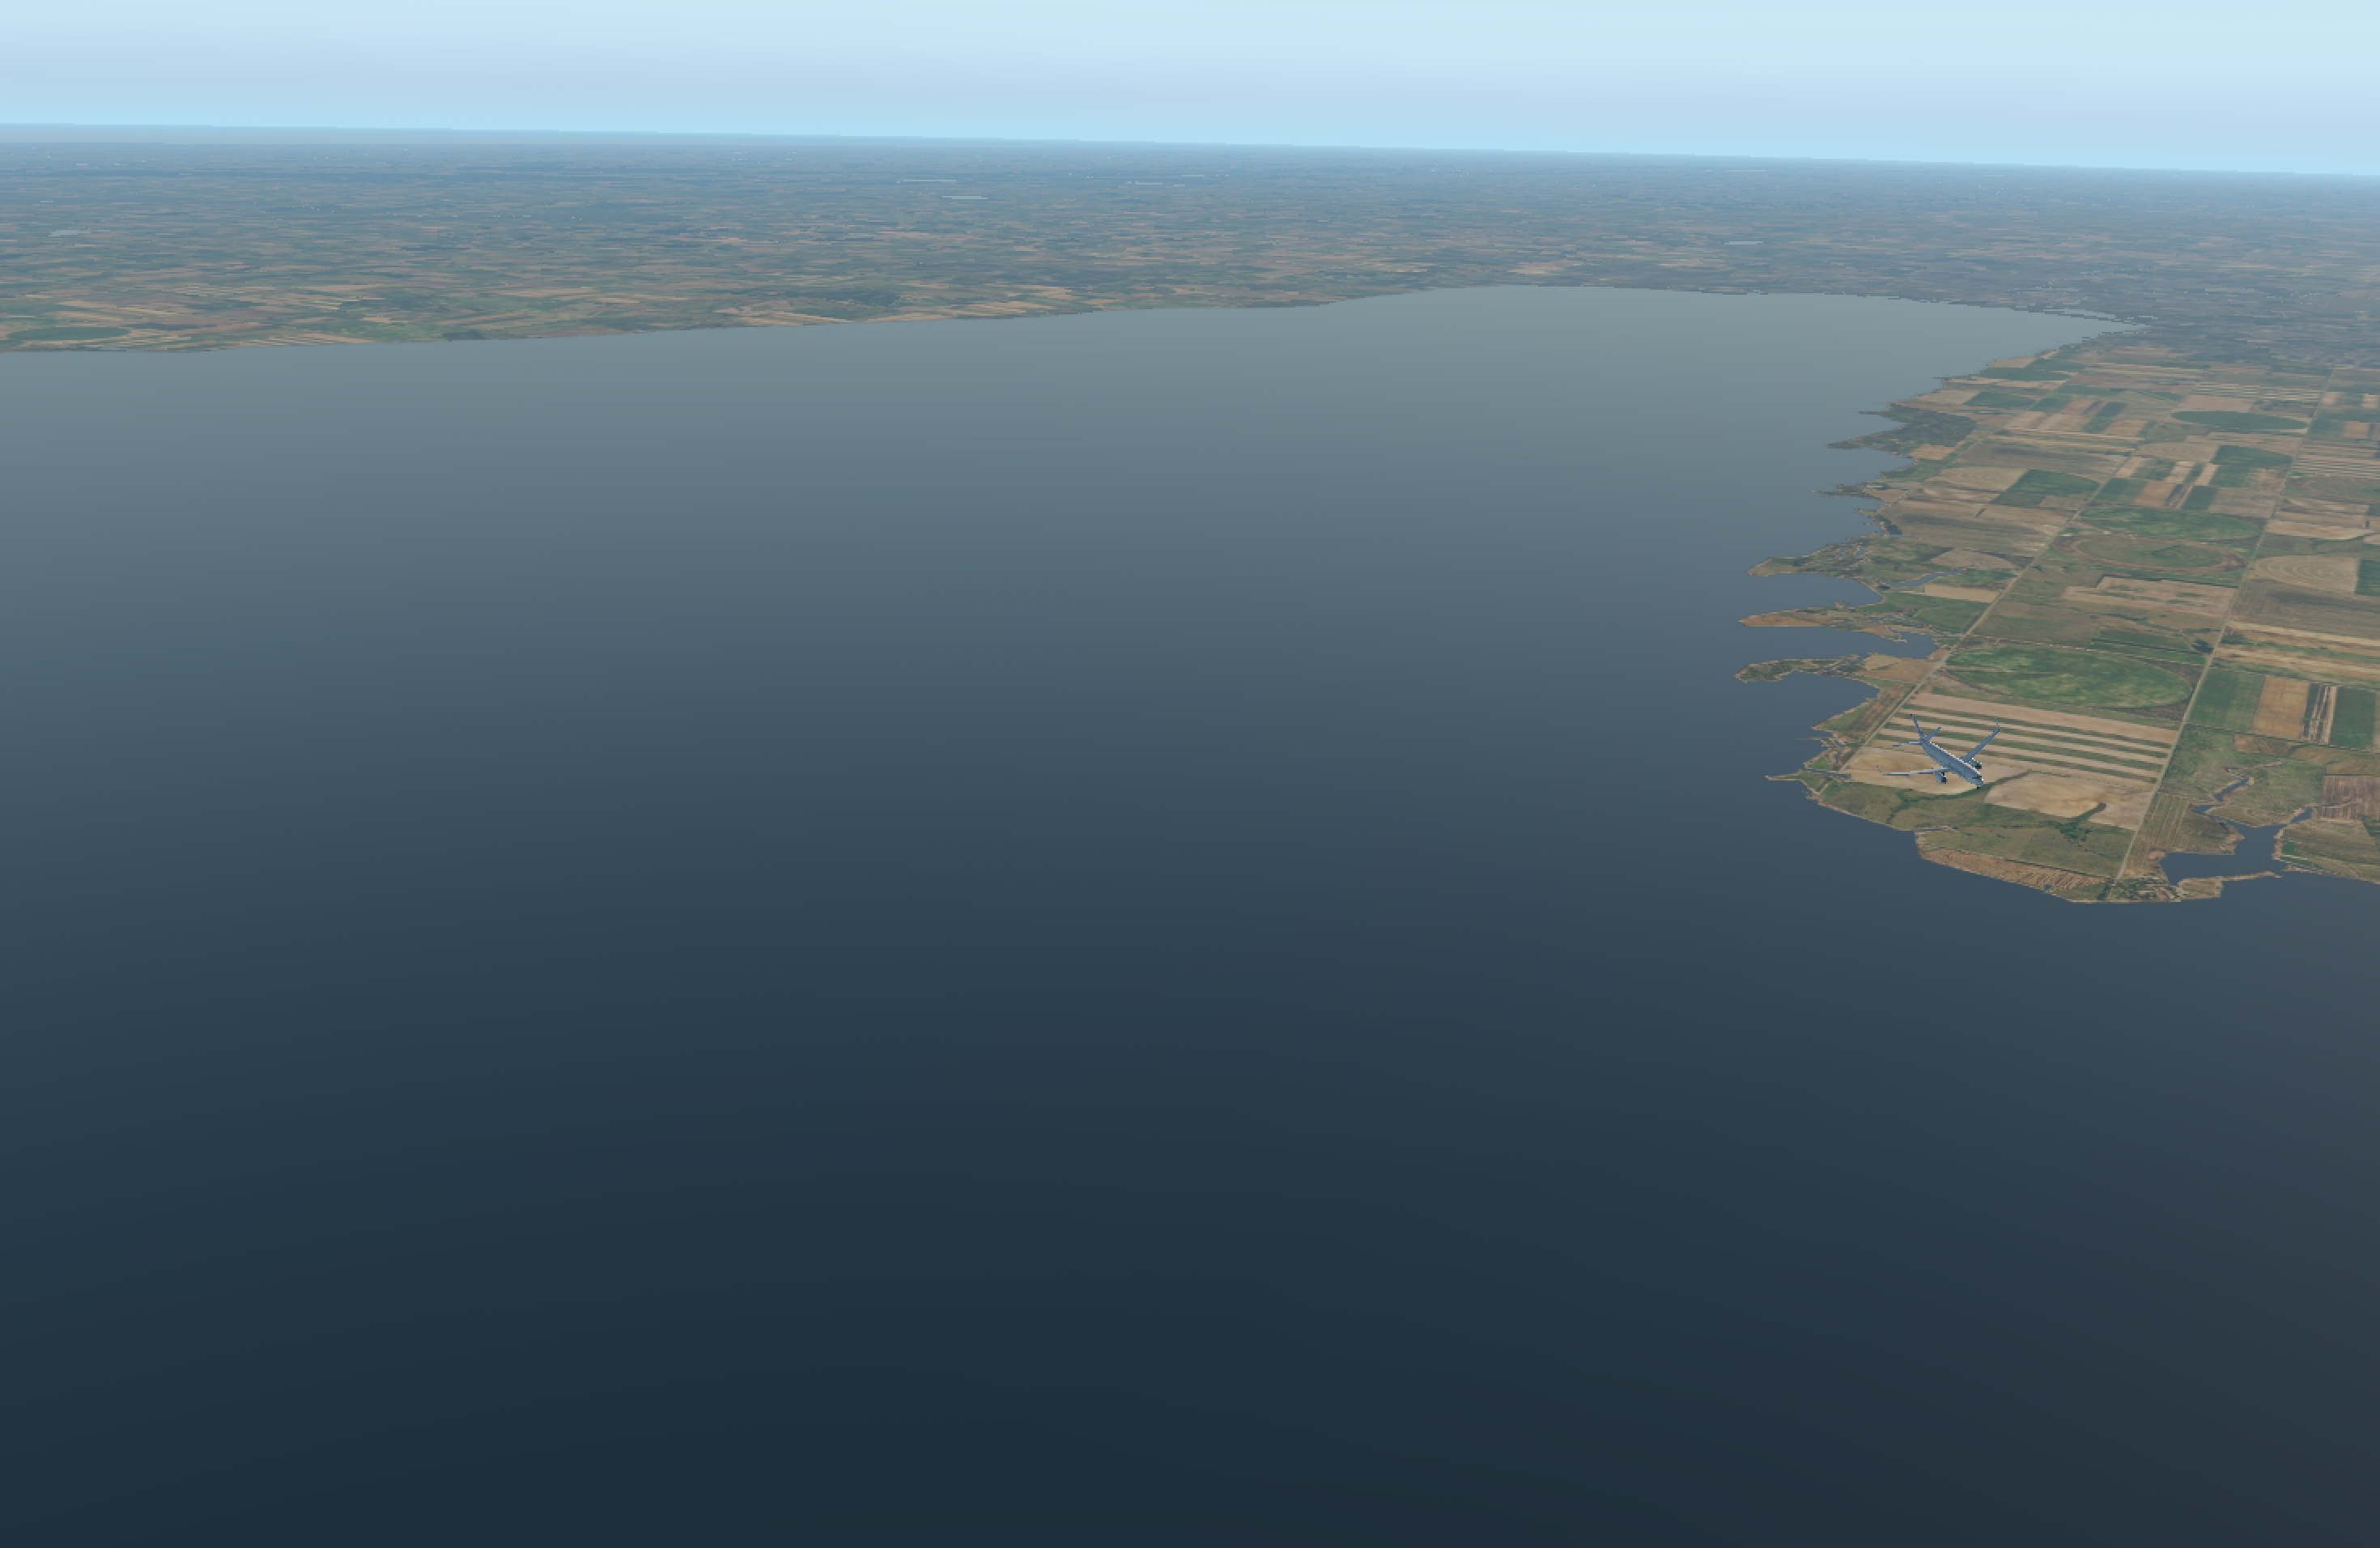aircraft: (1884, 739, 2021, 791)
